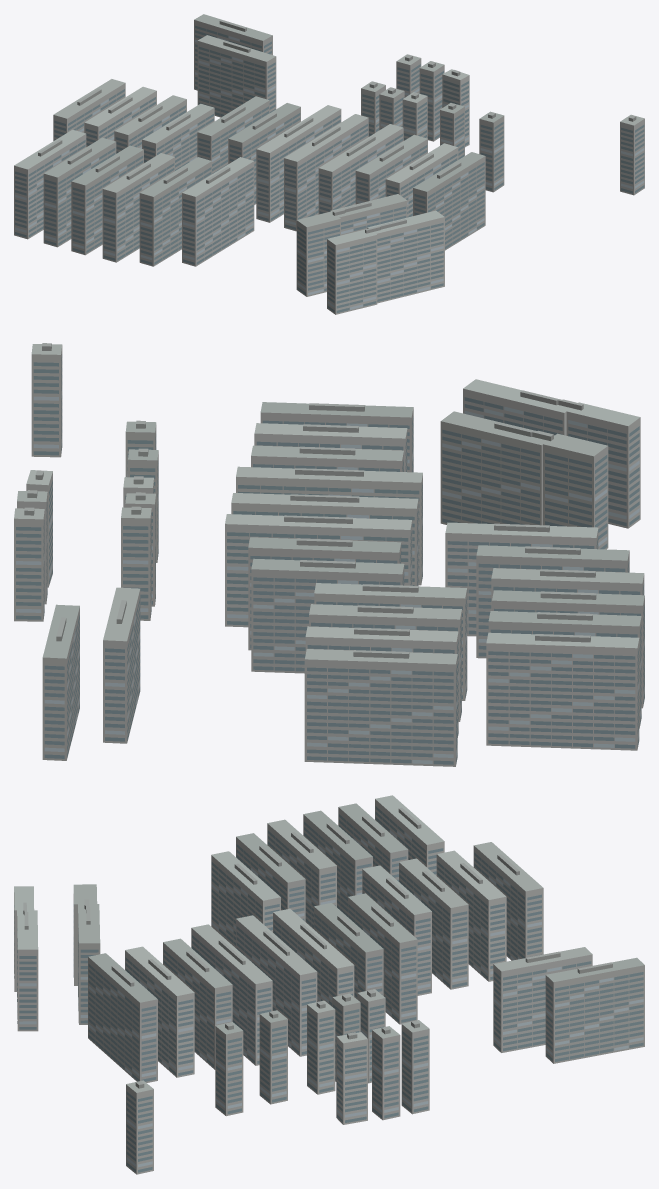
The model's file is apt-a15288301.glb.
3 renders of one model, top to bottom at view 1: azimuth 30°, elevation 25°; view 2: azimuth 150°, elevation 25°; view 3: azimuth 270°, elevation 25°, orthographic. The views are drawn at different scales.
Parts seen in each view (by area): view 1: apt-a15288301; view 2: apt-a15288301; view 3: apt-a15288301.
Part boxes in pixels (bbox=[...]): apt-a15288301: bbox=[14, 14, 644, 314]; apt-a15288301: bbox=[14, 343, 644, 766]; apt-a15288301: bbox=[14, 795, 644, 1174].
Bounding box in the file's own units: 358 × 47.81 × 320.
